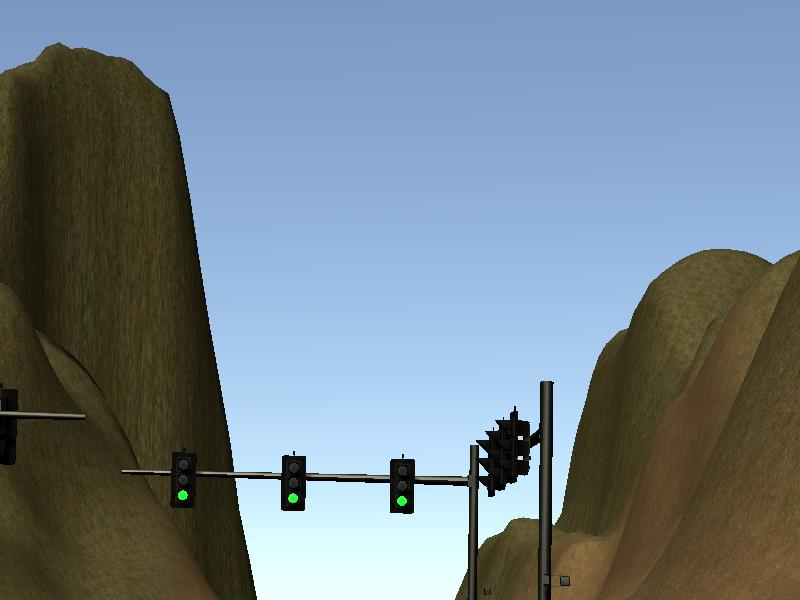Green: (171, 452, 195, 506), (283, 454, 306, 510), (390, 460, 414, 513)
